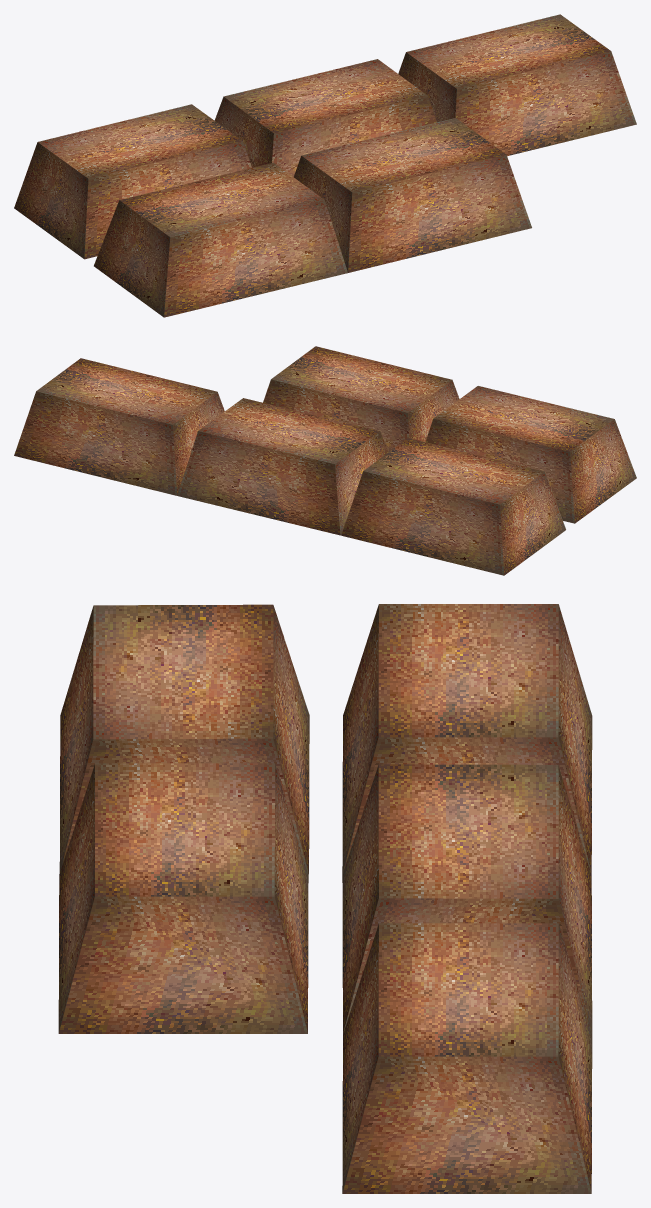
Rendered from iron_5.glb.
The picture shows the model from 3 angles, top to bottom: view 1: azimuth 30°, elevation 25°; view 2: azimuth 150°, elevation 25°; view 3: azimuth 270°, elevation 25°; orthographic projection. The views are drawn at different scales.
Parts seen in each view (by area): view 1: iron01.001; view 2: iron01.001; view 3: iron01.001.
Boxes of the visible parts, bbox=[...] form: iron01.001: bbox=[14, 14, 636, 317]; iron01.001: bbox=[14, 346, 636, 575]; iron01.001: bbox=[58, 604, 592, 1193].
Bounding box in the file's own units: 189 × 22.94 × 89.15.
Materials: 1 (1 with a texture image).
